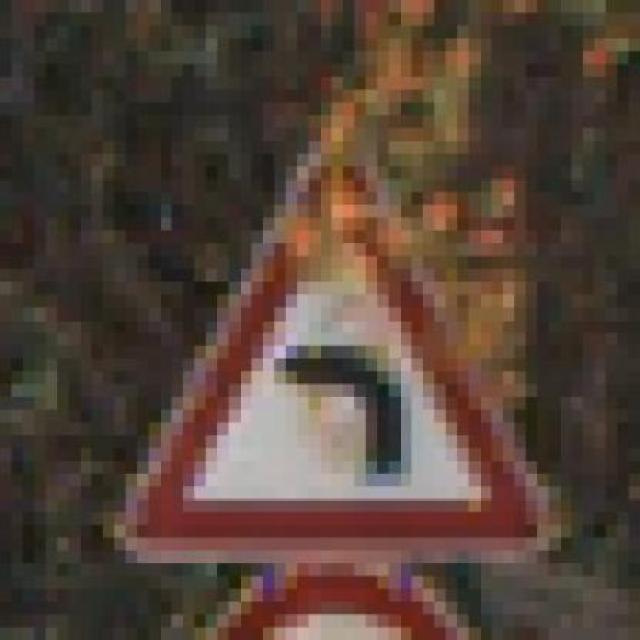Dangerous Left Curve Ahead: (80, 102, 549, 564)
